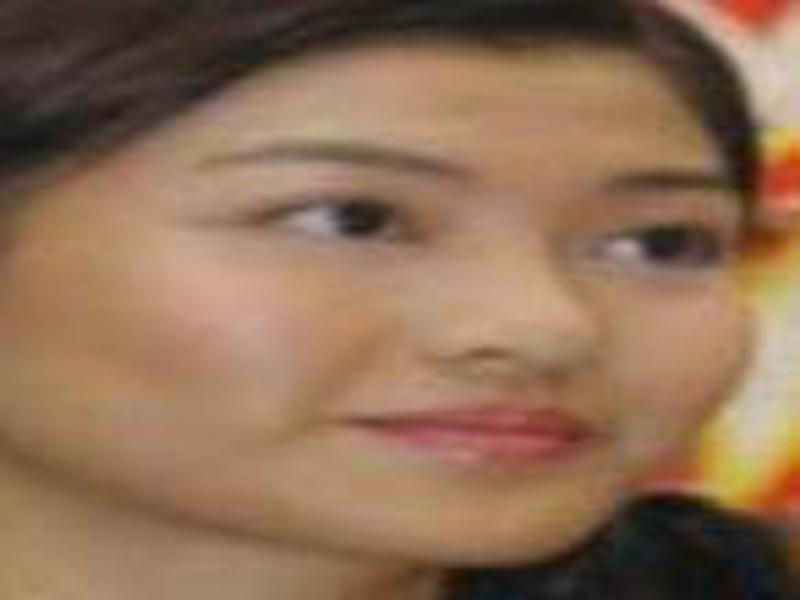without_mask: (19, 76, 757, 572)
